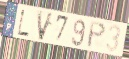3: (105, 24, 123, 55)
7: (55, 14, 71, 45)
9: (70, 18, 86, 47)
L: (16, 9, 31, 38)
P: (86, 21, 107, 50)
V: (36, 9, 55, 43)
